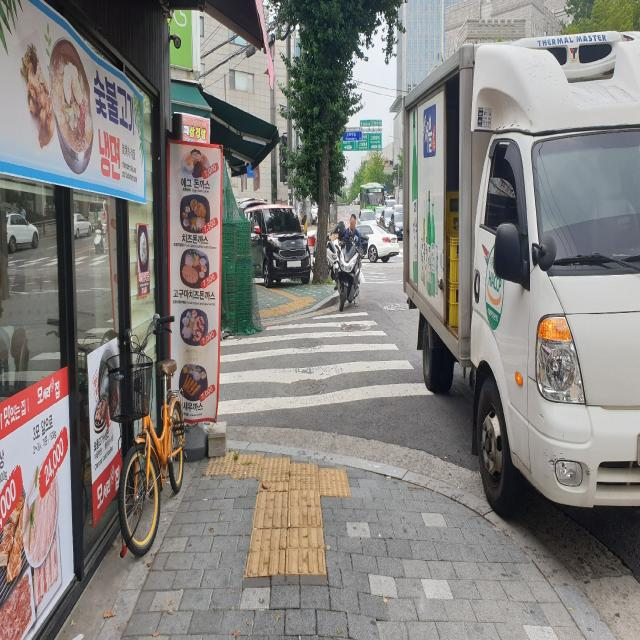횡단보도: (217, 309, 436, 418)
